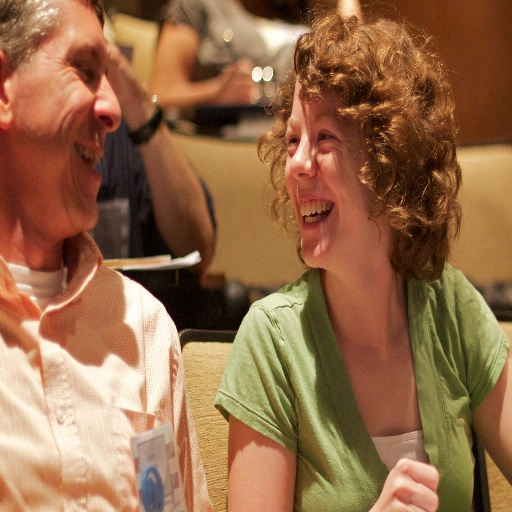hand: (364, 448, 445, 510), (103, 35, 147, 109), (211, 54, 261, 108)
